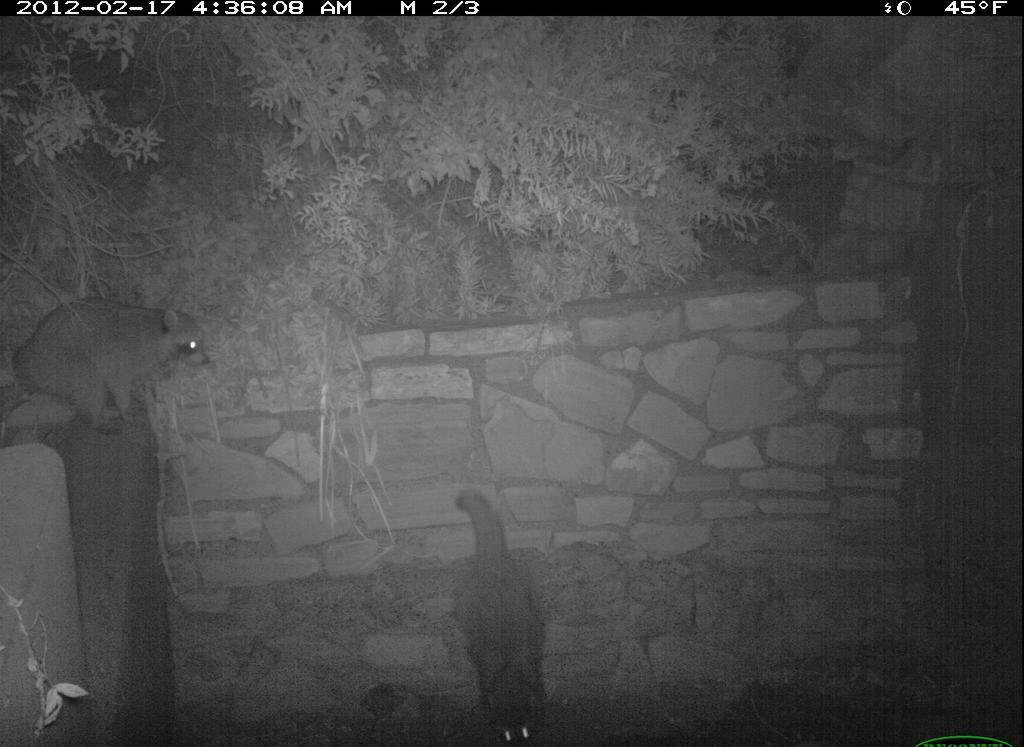raccoon: (7, 294, 223, 440), (437, 483, 555, 747)
